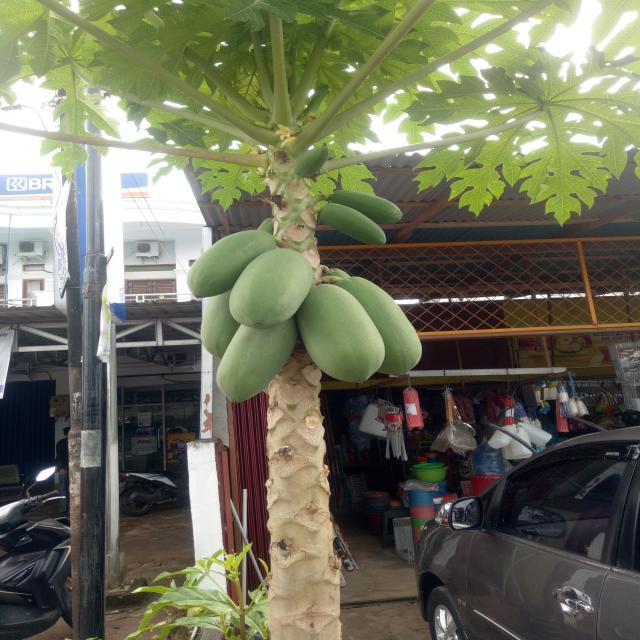Pepaya unrippen: (300, 288, 387, 382), (351, 282, 427, 378), (232, 245, 316, 331), (182, 228, 268, 300), (215, 331, 300, 400), (314, 205, 388, 246), (333, 191, 404, 222)
